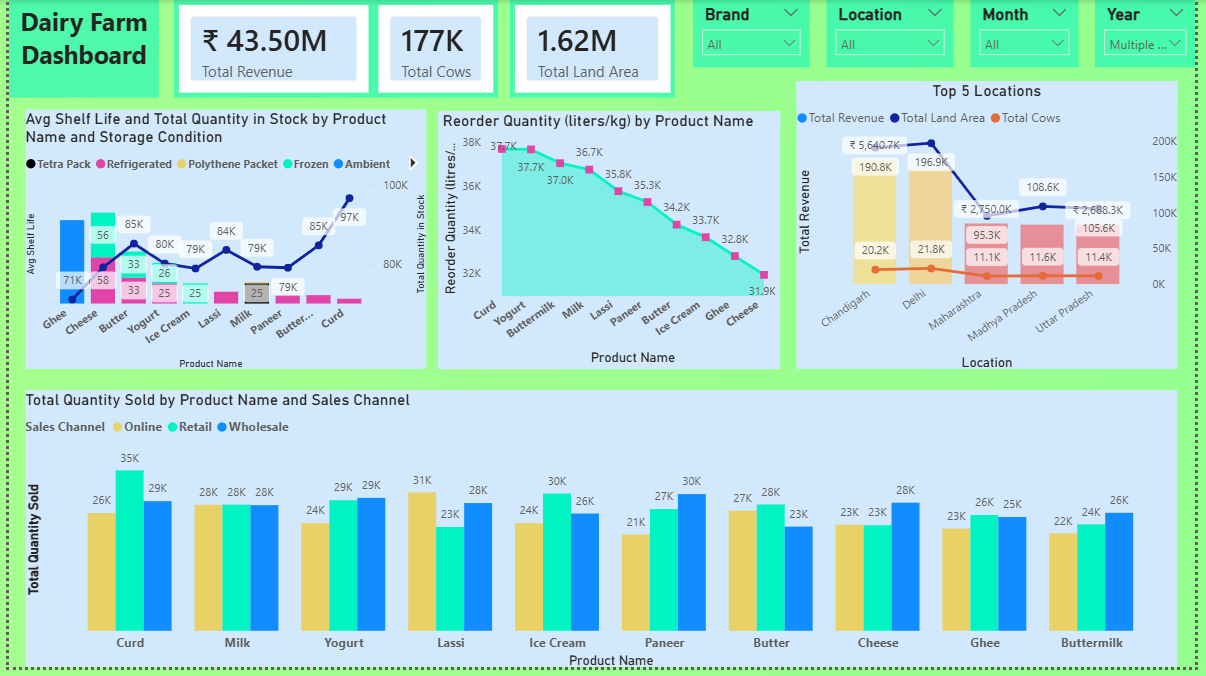

What the dashboard file says about the page in this screenshot:
{"tool":"powerbi","page":{"name":"Page 1","canvas":[1280,720],"ordinal":0},"visuals":[{"type":"cardVisual","fields":{"Data":["Date_Table.Total Cows"]},"box":[393.5,0,134.4,105.2],"z":0},{"type":"cardVisual","fields":{"Data":["Date_Table.Total Land Area"]},"box":[540.8,0,178.1,105.2],"z":1000},{"type":"cardVisual","fields":{"Data":["Date_Table.Total Revenue"]},"box":[178.1,0,215.4,105.2],"z":2000},{"type":"lineStackedColumnComboChart","title":"Top 5 Locations","fields":{"Y":["Date_Table.Total Revenue"],"Y2":["Date_Table.Total Land Area","Date_Table.Total Cows"],"Category":["dairy_dataset.Location"]},"box":[850.1,87.4,411.3,310.9],"z":3000},{"type":"slicer","fields":{"Values":["Date_Table.Year"]},"box":[1172.3,0,108.5,72.9],"z":4000},{"type":"textbox","box":[0,0,161.9,105.2],"z":5000},{"type":"slicer","fields":{"Values":["dairy_dataset.Location"]},"box":[882.5,0,137.6,72.9],"z":6000},{"type":"slicer","fields":{"Values":["dairy_dataset.Brand"]},"box":[738.4,0,126.3,72.9],"z":7000},{"type":"clusteredColumnChart","fields":{"Category":["dairy_dataset.Product Name"],"Y":["dairy_dataset.Total Quantity Sold"],"Series":["dairy_dataset.Sales Channel"]},"box":[17.8,421,1243.6,299.6],"z":8000},{"type":"lineStackedColumnComboChart","fields":{"Category":["dairy_dataset.Product Name"],"Y":["dairy_dataset.Avg Shelf Life"],"Series":["dairy_dataset.Storage Condition"],"Y2":["dairy_dataset.Total Quantity in Stock"]},"box":[17.8,118.2,432.3,280.1],"z":9000},{"type":"areaChart","title":"Reorder Quantity (liters/kg) by Product Name","fields":{"Category":["dairy_dataset.Product Name"],"Y":["Sum(dairy_dataset.Reorder Quantity (liters/kg))"]},"box":[463.1,119.8,369.2,278.5],"z":10000},{"type":"slicer","fields":{"Values":["Date_Table.Month"]},"box":[1037.9,0,116.6,72.9],"z":11000}]}

Visuals, with their boxes in screenshot pixels (x1, y1, x2, y2), scaled from the page's 1280x720 canvas onto the 1206x676 screenshot:
cardVisual - Date_Table.Total Cows: Rect(371, 0, 497, 99)
cardVisual - Date_Table.Total Land Area: Rect(510, 0, 677, 99)
cardVisual - Date_Table.Total Revenue: Rect(168, 0, 371, 99)
"Top 5 Locations" lineStackedColumnComboChart: Rect(801, 82, 1188, 374)
slicer - Date_Table.Year: Rect(1105, 0, 1205, 68)
textbox: Rect(0, 0, 153, 99)
slicer - dairy_dataset.Location: Rect(831, 0, 961, 68)
slicer - dairy_dataset.Brand: Rect(696, 0, 815, 68)
clusteredColumnChart - dairy_dataset.Product Name x dairy_dataset.Total Quantity Sold: Rect(17, 395, 1188, 675)
lineStackedColumnComboChart - dairy_dataset.Product Name x dairy_dataset.Avg Shelf Life: Rect(17, 111, 424, 374)
"Reorder Quantity (liters/kg) by Product Name" areaChart: Rect(436, 112, 784, 374)
slicer - Date_Table.Month: Rect(978, 0, 1088, 68)
